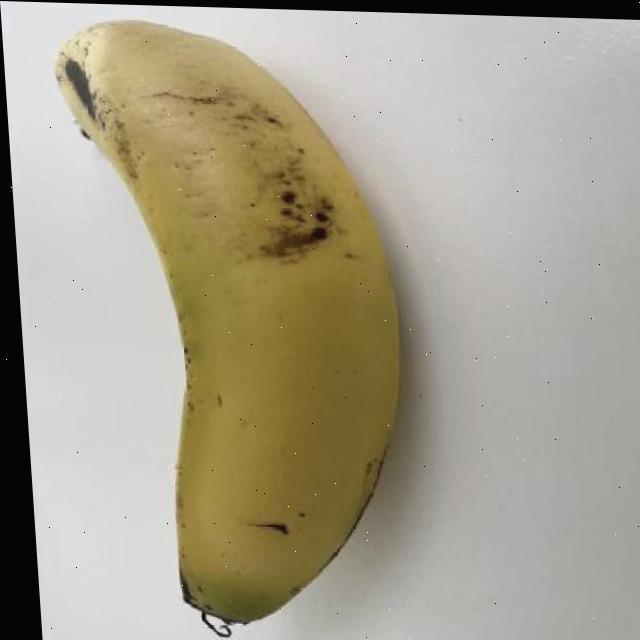banana: (44, 15, 431, 640)
